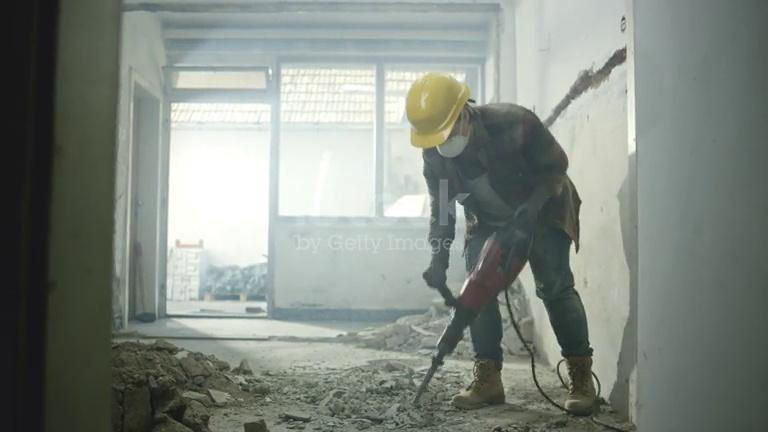helmet: (404, 74, 472, 149)
mask: (431, 125, 470, 159)
person: (404, 72, 600, 418)
